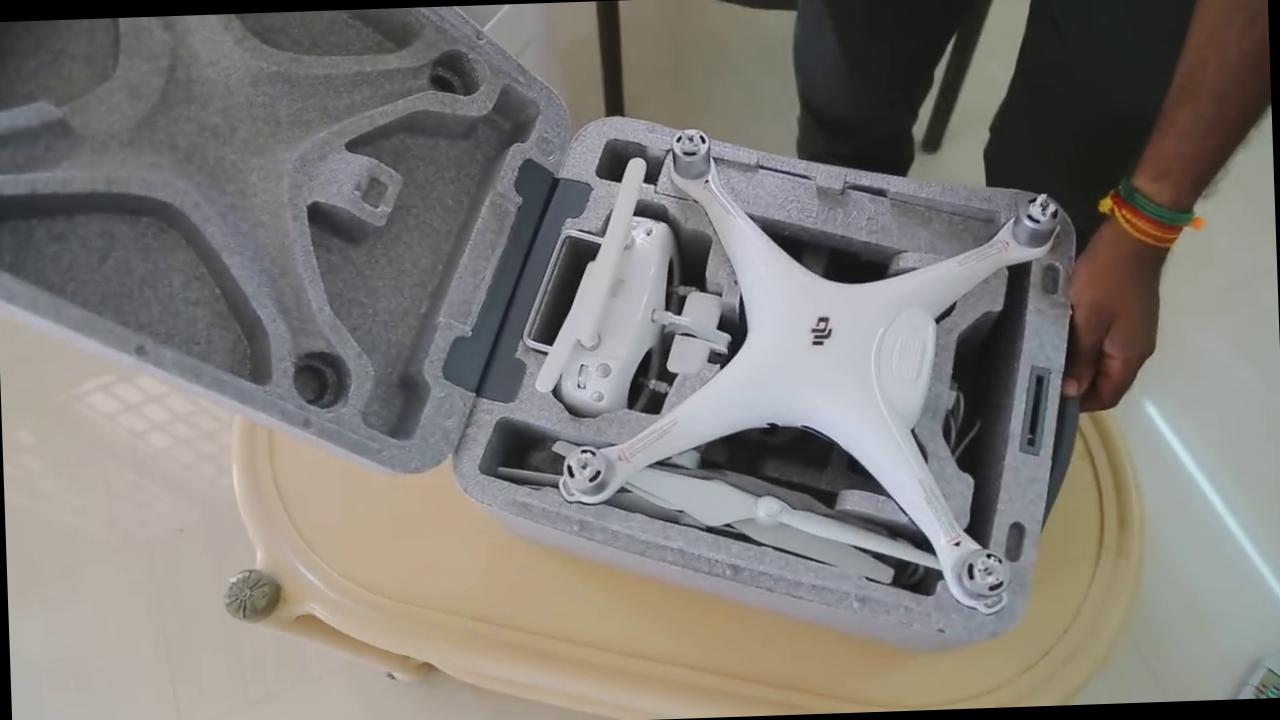drone: (519, 107, 1087, 638)
